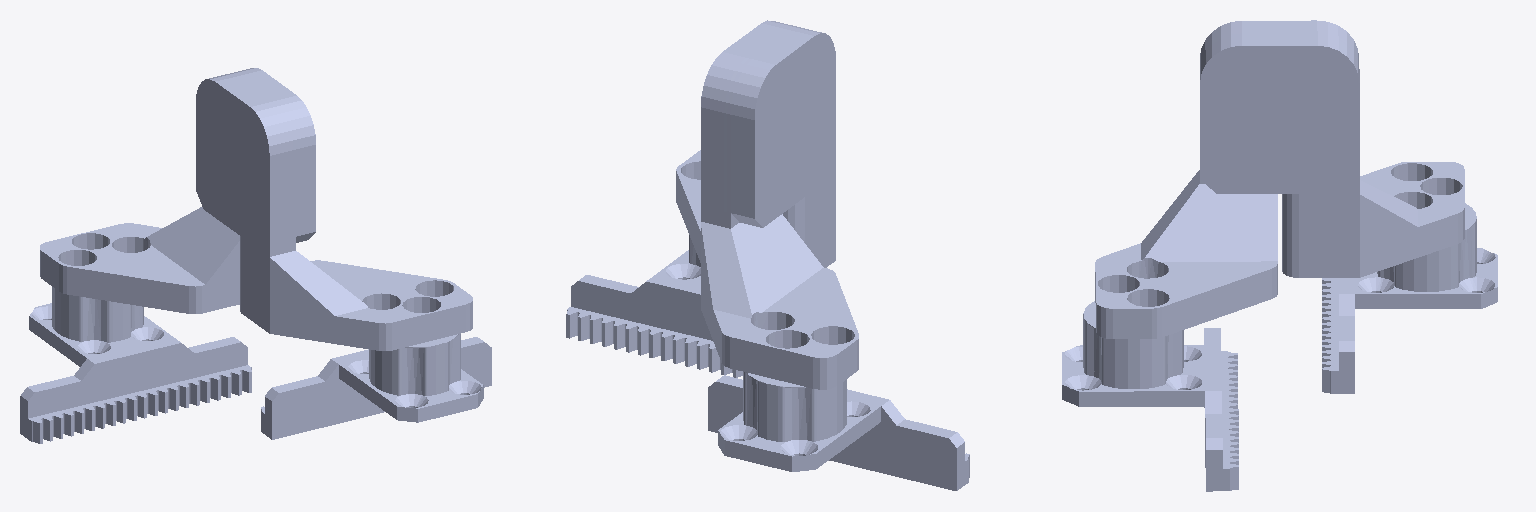
The robot description file, URDF, robot "delto_description":
<?xml version="1.0" encoding="utf-8"?>

<robot
  name="delto_description">

    <material name="black">
    <color rgba="0.196 0.196 0.196 1.0"/>
    </material>
    
  <link
    name="delto_base_link">
    <inertial>
      <origin
        xyz="-0.000297512898704039 0.0601358449140221 0.000405289272635231"
        rpy="0 0 0" />
      <mass
        value="0.148118292371017" />
      <inertia
        ixx="0.000127380225676606"
        ixy="2.45032695761012E-06"
        ixz="-4.42797188296029E-07"
        iyy="0.000134249396452626"
        iyz="-1.25005318301663E-07"
        izz="0.000126530130055728" />
    </inertial>
    <visual>
      <origin
        xyz="0 0 0"
        rpy="0 0 0" />
      <geometry>
        <mesh
          filename="meshes/DG2F/delto_base_link.dae" />
      </geometry>
      <material
        name="">
        <color
          rgba="0.792156862745098 0.819607843137255 0.933333333333333 1" />
      </material>
    </visual>
    <collision>
      <origin
        xyz="0 0 0"
        rpy="0 0 0" />
      <geometry>
        <mesh
          filename="meshes/DG2F/delto_base_link.stl" />
      </geometry>
    </collision>
  </link>
  <link name="TIP1">
    <inertial>
      <origin
        xyz="-0.018892 0.020144 0.0081415"
        rpy="0 0 0" />
      <mass
        value="0.0050621" />
      <inertia
        ixx="5.5156E-07"
        ixy="1.1032E-07"
        ixz="-8.5308E-08"
        iyy="3.9645E-07"
        iyz="1.1084E-07"
        izz="4.9988E-07" />
    </inertial>
    <visual>
      <origin
        xyz="0.025 0 0"
        rpy="0 0 0" />

      <material name="black"/>
      <geometry>
        <mesh
          filename="meshes/DG2F/TIP.stl" />
      </geometry>
      <material
        name="">
        <color
          rgba="0.79216 0.81961 0.93333 1" />
      </material>
    </visual>
    <collision>
      <origin
        xyz="0.025 0 0"
        rpy="0 0 0" />
      <geometry>
        <mesh
          filename="meshes/DG2F/TIP.stl" />
      </geometry>
    </collision>
  </link>
  <joint
    name="Distance"
    type="prismatic">

    <limit effort="1000.0" lower="0.0" upper="0.025" velocity="0.5"/>
    <origin
      xyz="0 0 0.113"
      rpy="1.5708 0 -3.141597" />
    <parent
      link="delto_base_link" />
    <child
      link="TIP1" />
    <axis
      xyz="-1 0 0" />
  </joint>
  <link name="TIP2">
    <inertial>
      <origin
        xyz="-0.018833 0.020144 0.0081415"
        rpy="0 0 0" />

      <mass
        value="0.0050621" />
      <inertia
        ixx="5.5156E-07"
        ixy="1.1032E-07"
        ixz="-8.5308E-08"
        iyy="3.9645E-07"
        iyz="1.1084E-07"
        izz="4.9988E-07" />
    </inertial>
    <visual>
      <material name="black"/>
      <origin
        xyz="0.025 0 0"
        rpy="0 0 0" />
      <geometry>
        <mesh
          filename="meshes/DG2F/TIP.stl" />
      </geometry>
      <material
        name="">
        <color
          rgba="0.79216 0.81961 0.93333 1" />
      </material>
    </visual>
    <collision>
      <origin
        xyz="0.025 0 0"
        rpy="0 0 0" />
      <geometry>
        <mesh
          filename="meshes/DG2F/TIP.stl" />
      </geometry>
    </collision>
  </link>
  <joint
    name="JOINT2"
    type="prismatic">
    
    <limit effort="1000.0" lower="0.0" upper="0.025" velocity="0.5"/>
    <mimic
      joint="Distance"
      multiplier="1"/>
    <origin
      xyz="0 0 0.113"
      rpy="1.5708 0 0.0070478" />
    <parent
      link="delto_base_link" />
    <child
      link="TIP2" />
    <axis
      xyz="-1 0 0" />
  </joint>
</robot>

--- Facts derived from the render (not from the file) ---
3 views of the same robot in one strip: view 1: azimuth 30°, elevation 25°; view 2: azimuth 150°, elevation 25°; view 3: azimuth 270°, elevation 25° (orthographic).
Model delto_description with 3 links and 2 joints (2 prismatic), rooted at delto_base_link, posed all joints at 0.
Links seen in each view (by area): view 1: TIP2, TIP1; view 2: TIP1, TIP2; view 3: TIP1, TIP2.
Boxes of the visible links, bbox=[...] form: TIP2: bbox=[196, 73, 491, 439]; TIP1: bbox=[20, 68, 315, 443]; TIP1: bbox=[701, 20, 969, 490]; TIP2: bbox=[566, 27, 835, 377]; TIP1: bbox=[1200, 32, 1497, 393]; TIP2: bbox=[1062, 20, 1359, 491].
Size in the robot's own frame: 0.0604 by 0.0519 by 0.0461 metres.
2 mesh visuals loaded from 2 distinct referenced files (1 binary STL); not drawn: 1 (reference not matched to a file when rendering).